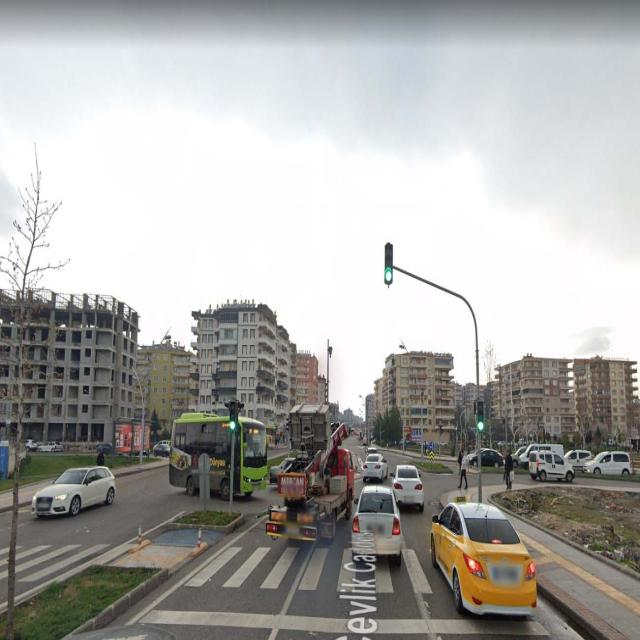ilerisol: (430, 442, 434, 450)
yesil: (384, 244, 393, 286), (477, 401, 486, 432), (230, 401, 237, 431)
